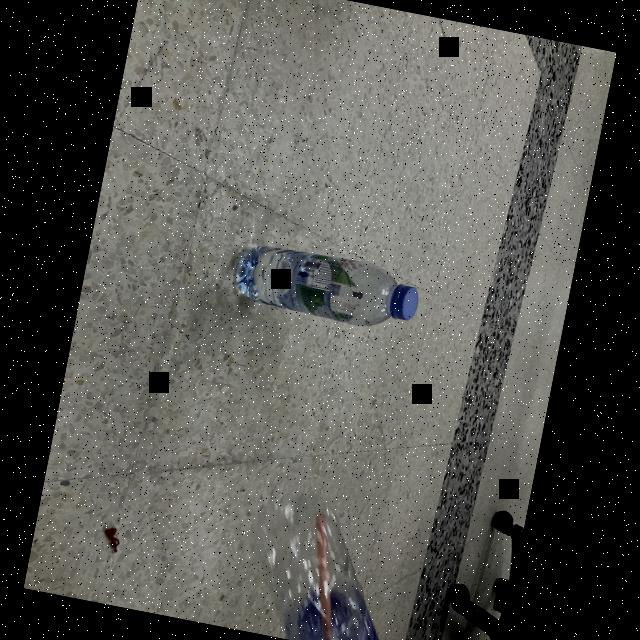plastic_bottle: (228, 484, 417, 640), (227, 236, 424, 336)
plastic_bottle_cap: (386, 282, 422, 322)
